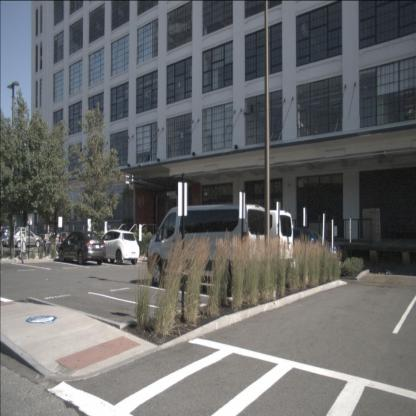human-pedestrian-adult: (154, 217, 159, 241)
vehicle-bicycle: (38, 238, 48, 258)
vehicle-car: (147, 204, 271, 286), (203, 209, 294, 278), (272, 228, 342, 272), (58, 231, 106, 265), (96, 229, 140, 265), (8, 230, 43, 248), (0, 227, 26, 247)
